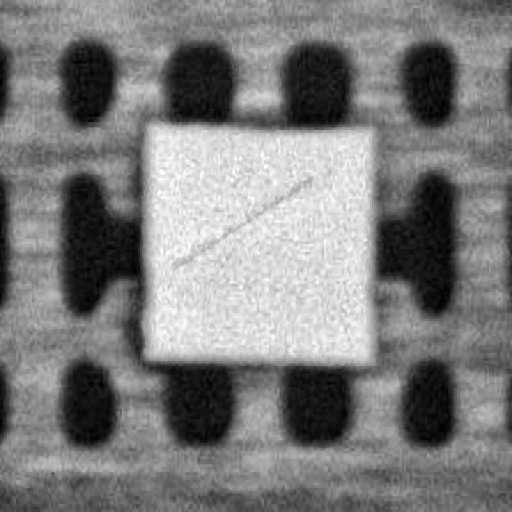DIE_CRACK: (258, 117, 464, 177)
